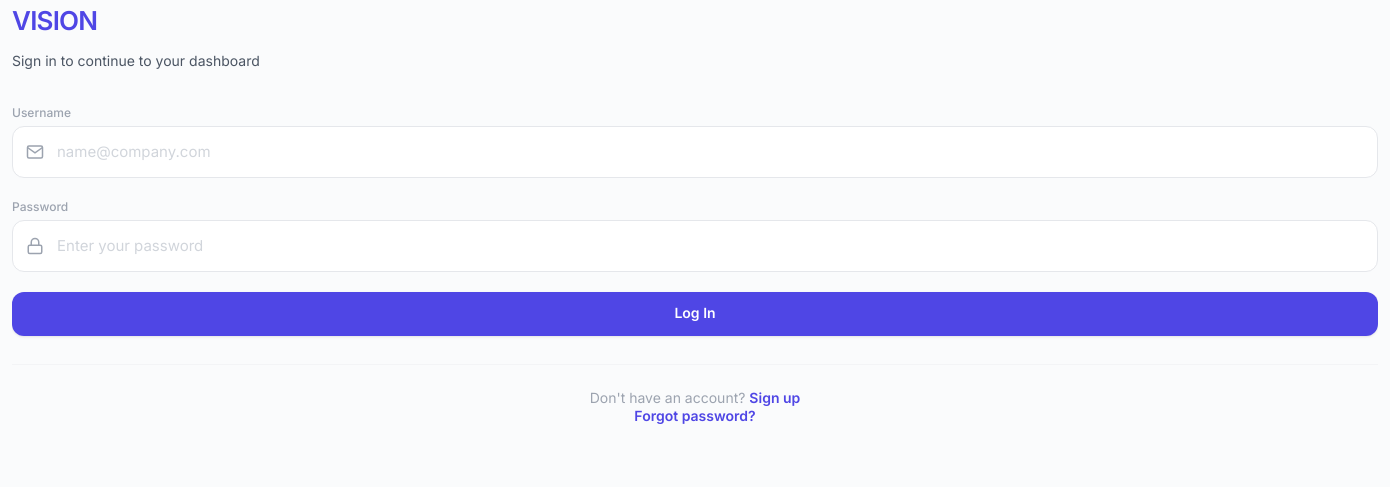
Test case: LoginForm › should show validation error for invalid email format
This screenshot has width=1390, height=487.
# Updated to match design system: "Username" label
In the field labelled "Username": [695, 152] box [12,126,1378,178], type "invalid-email"
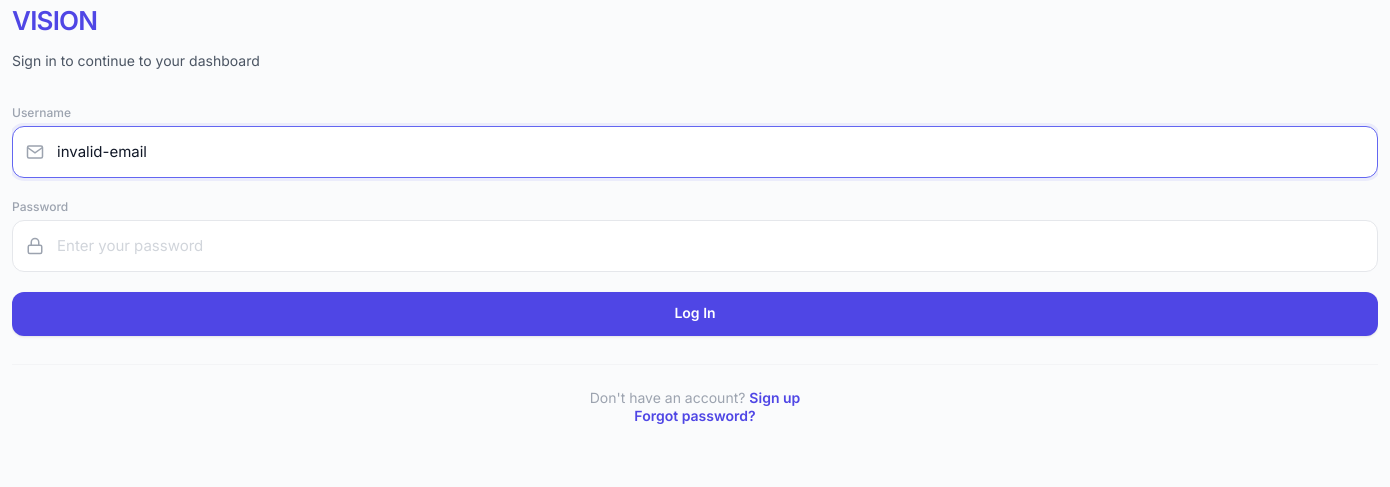
# Updated to match design system: "Log In" button
Click the button "Log In": [695, 314] box [12,292,1378,336]
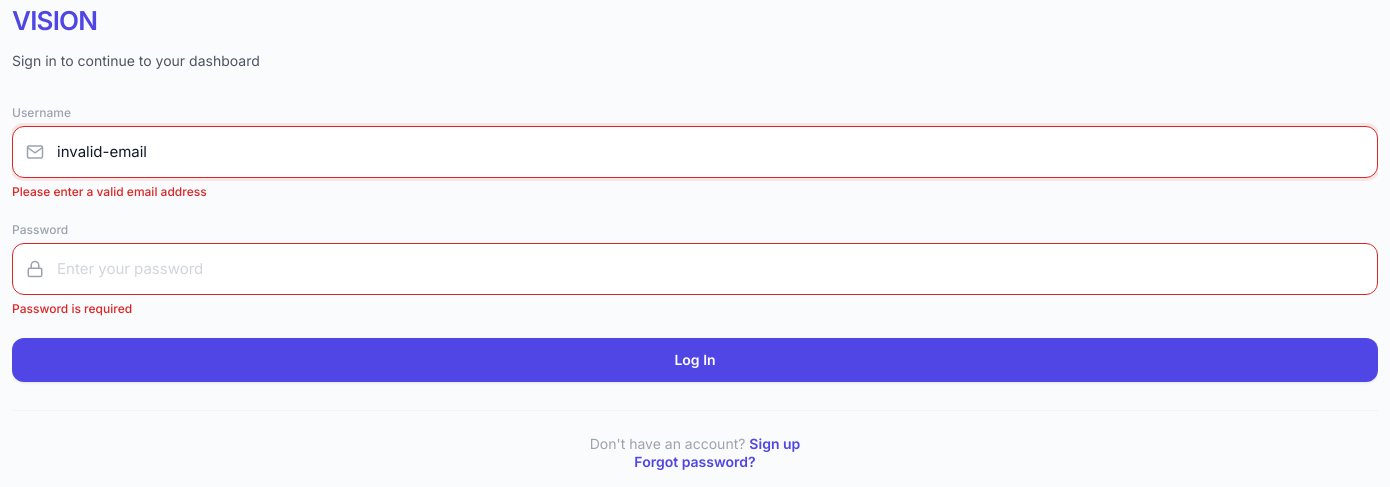
Expected: the text "Please enter a valid email address" is shown, [12,184,207,199]
